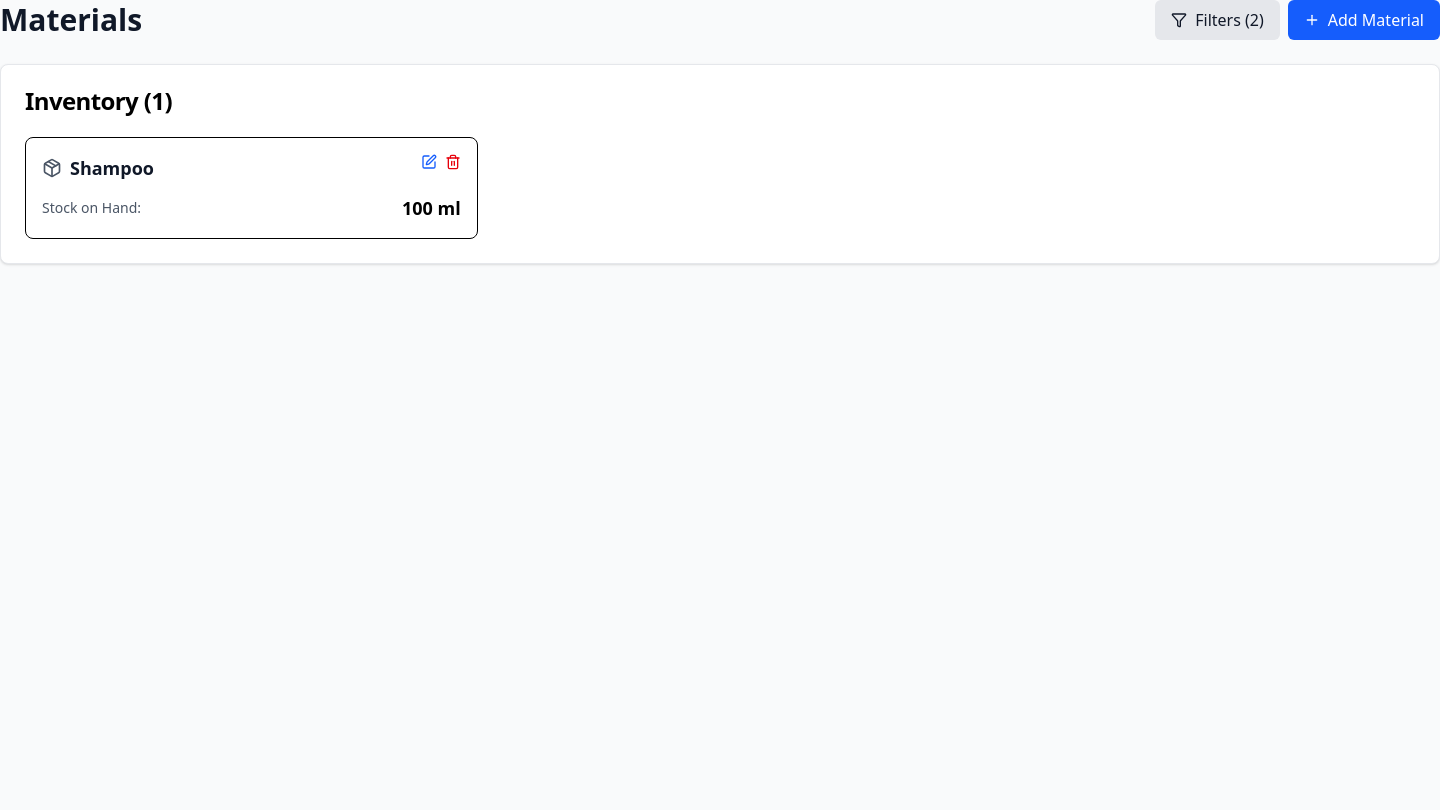
Materials Component › opens create modal when Add Material button is clicked
Check: the heading "Shampoo" is shown, box x1=70 y1=154 x2=154 y2=182
Click the button "Add Material" at (1364,20), box x1=1288 y1=0 x2=1439 y2=40
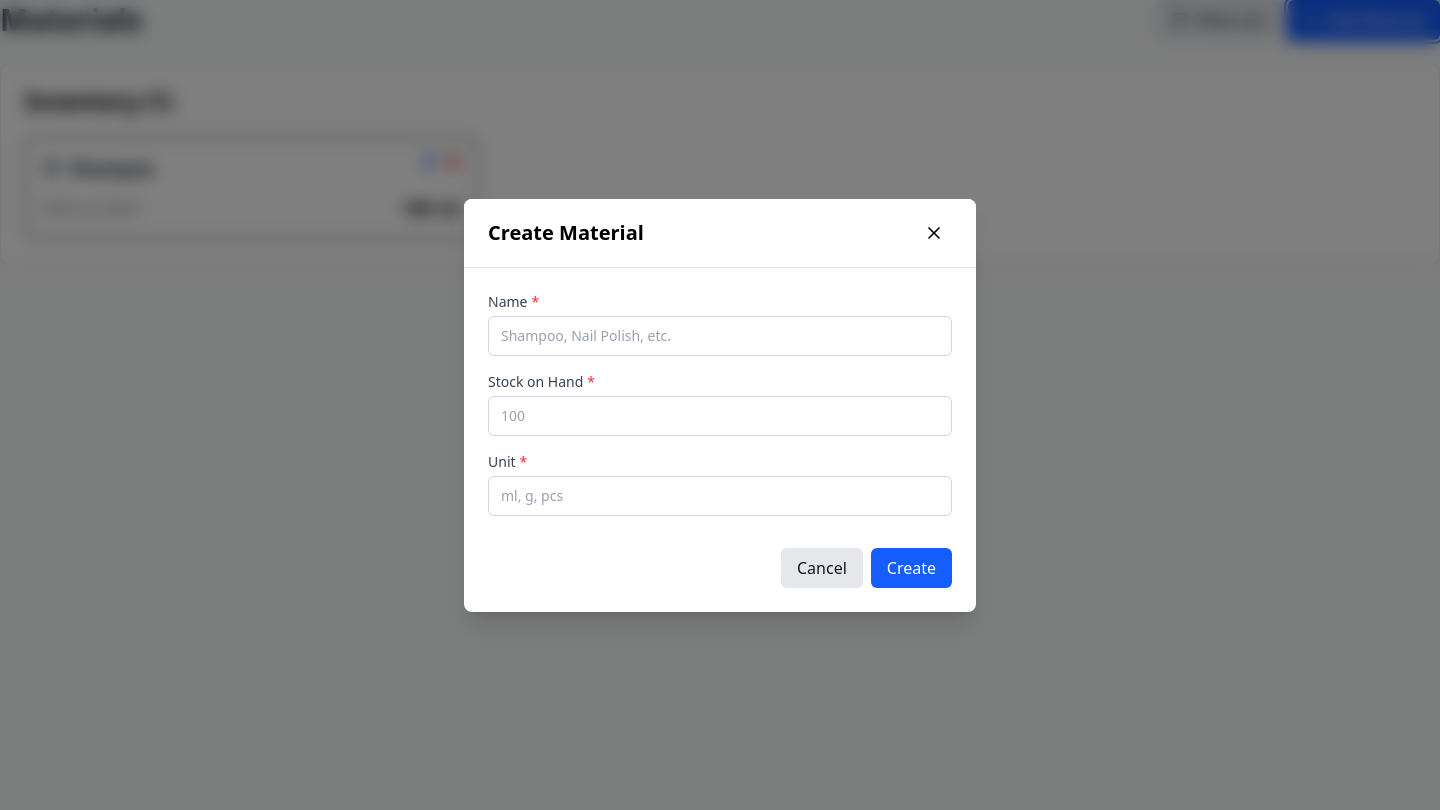
Check: the heading "Create Material" is shown, box x1=488 y1=218 x2=644 y2=246
